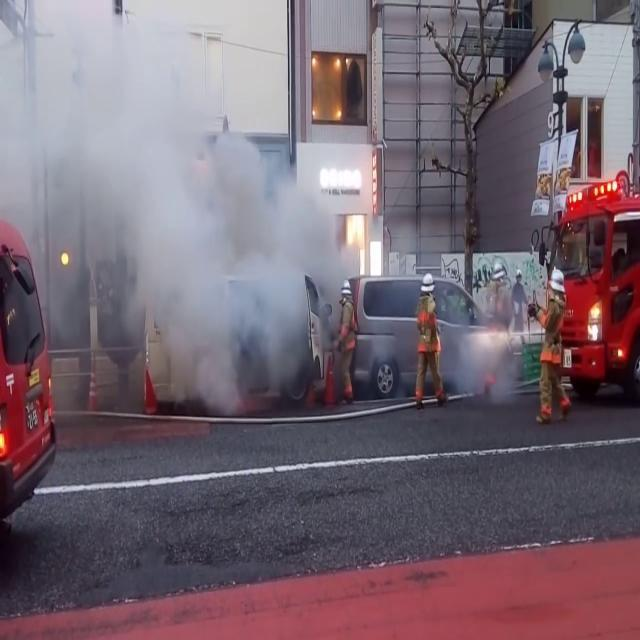Smoke: (1, 2, 344, 417)
